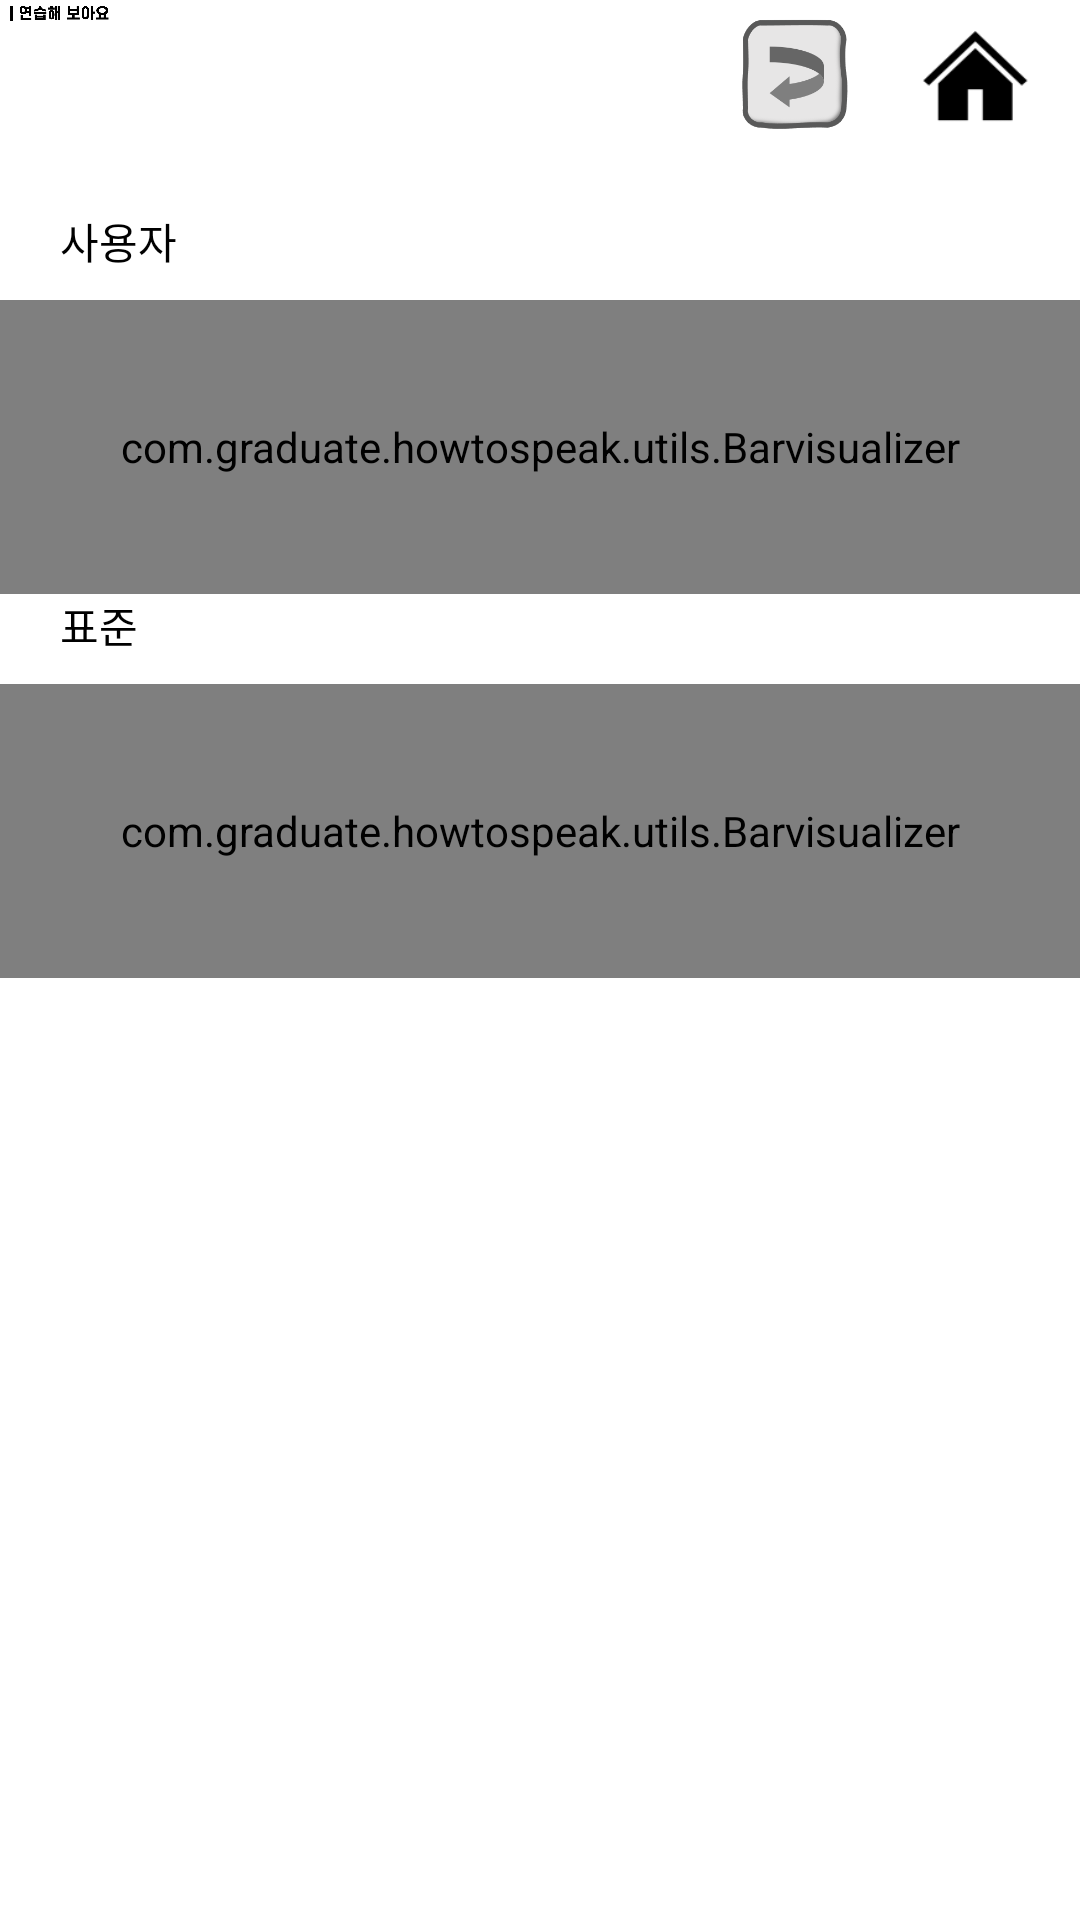

Screen size 1080px x 1920px. Icon name, then its box in pixels as {"x1": x1, "y1": y1, "x2": x2, "y2": y2}:
back: {"x1": 742, "y1": 20, "x2": 848, "y2": 129}
home: {"x1": 923, "y1": 31, "x2": 1028, "y2": 121}
